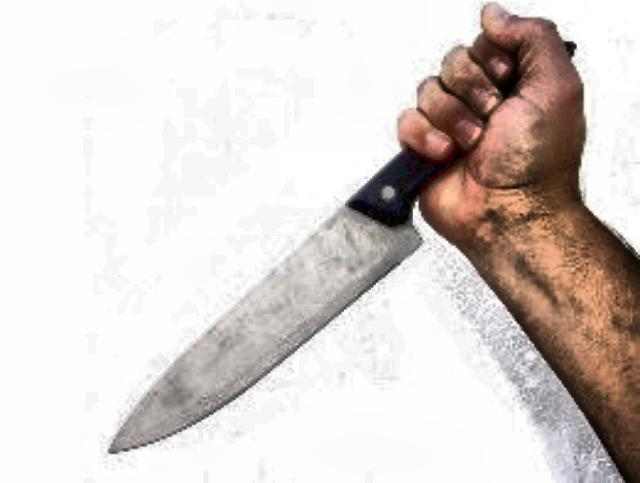knife: (96, 59, 518, 453)
